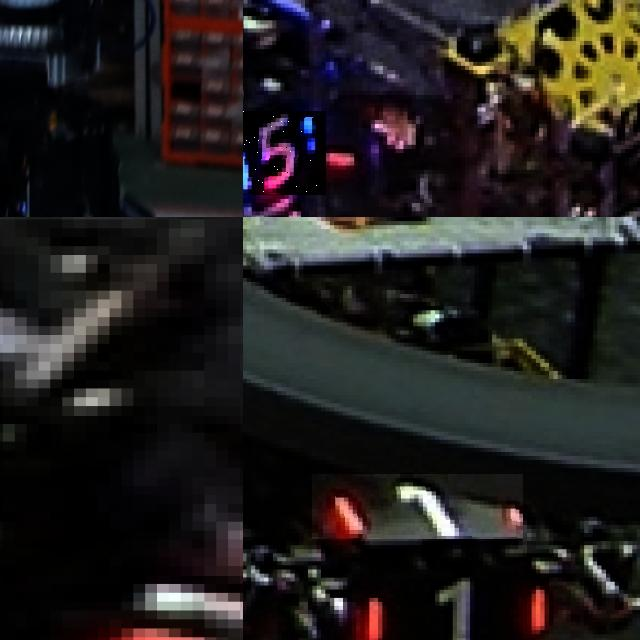B5: (243, 111, 325, 194)
R1: (345, 569, 551, 640), (312, 474, 523, 539), (109, 557, 243, 640)
